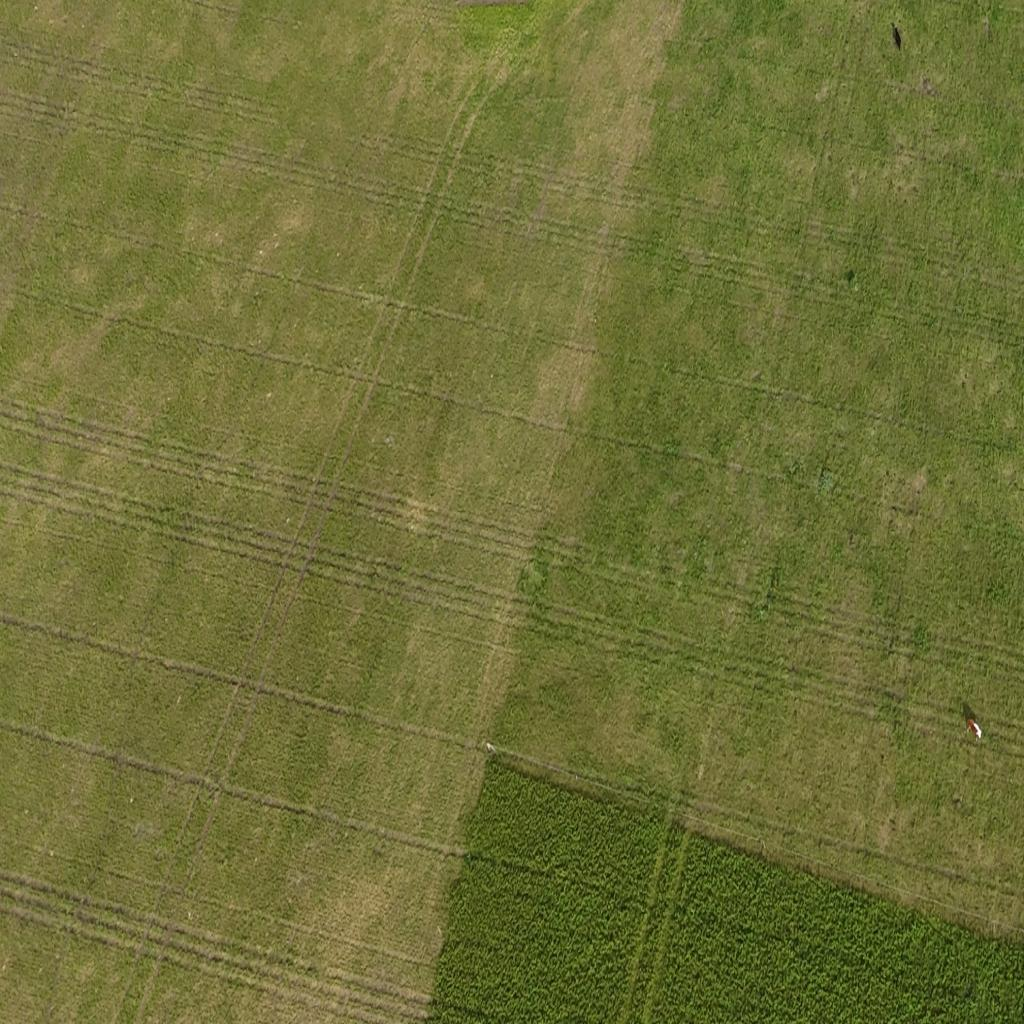cow: (965, 712, 983, 746)
